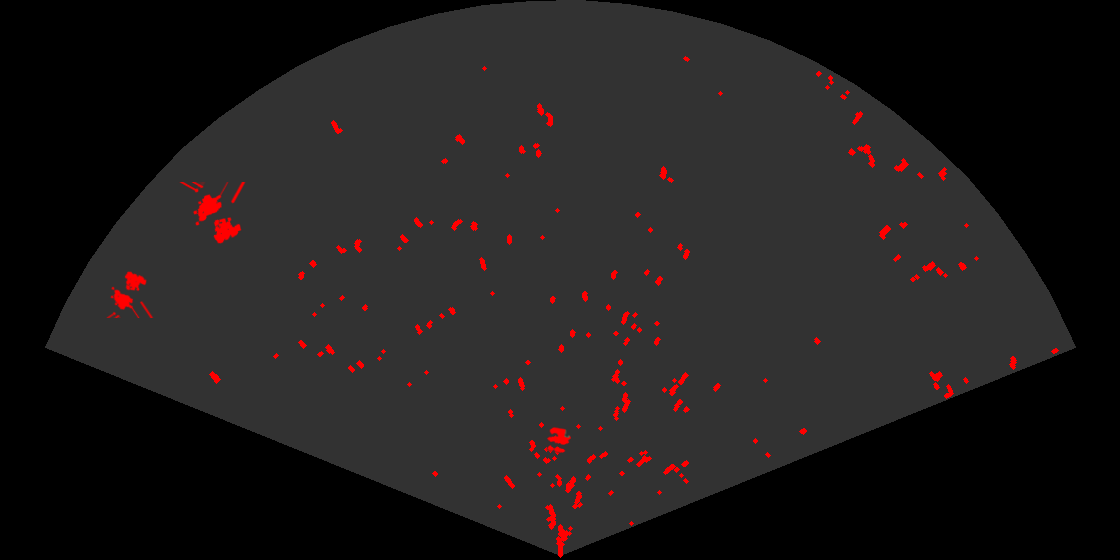ball: (545, 426, 572, 454)
cage: (178, 182, 247, 245), (105, 270, 155, 318)
